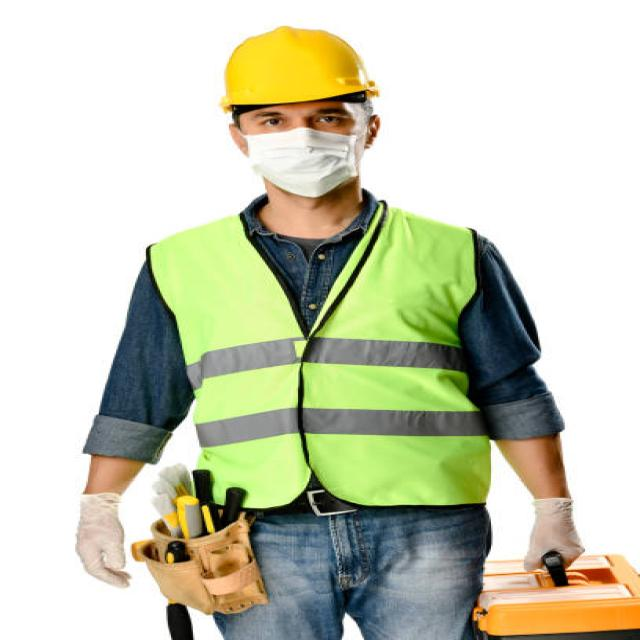gloves: (72, 491, 132, 586), (520, 497, 586, 574)
